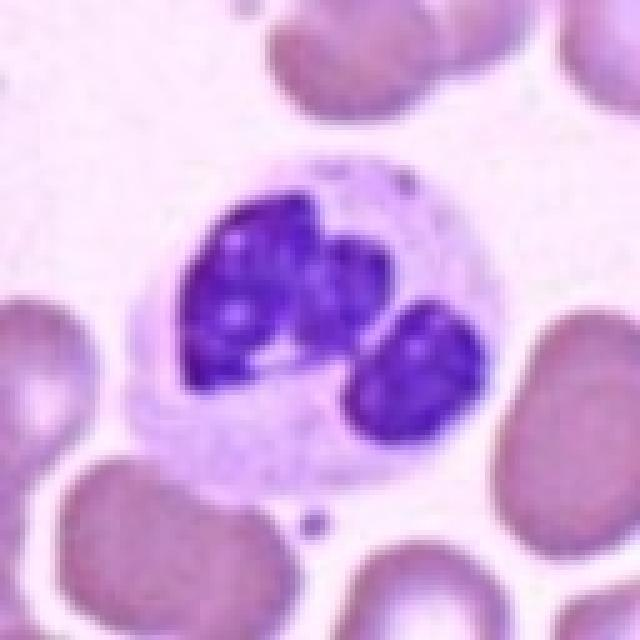neutro: (132, 99, 509, 509)
